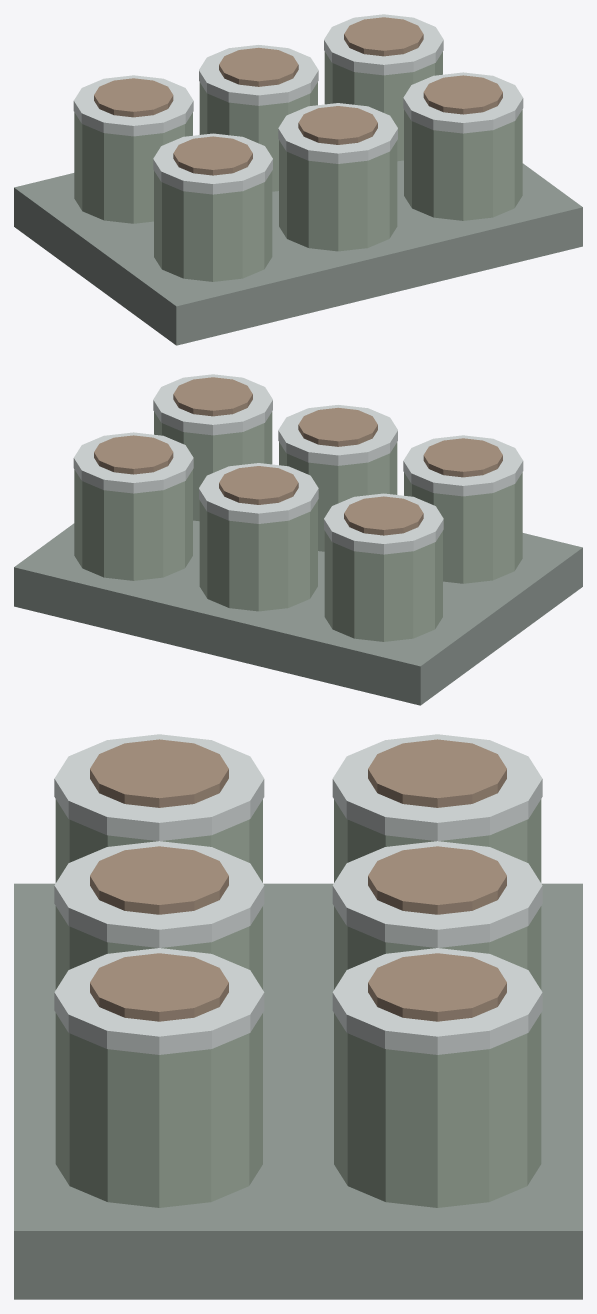
File: s7-e0e1-cn05-multipot-nursery-tray.glb
The picture shows the model from 3 angles, top to bottom: view 1: azimuth 30°, elevation 25°; view 2: azimuth 150°, elevation 25°; view 3: azimuth 270°, elevation 25°; orthographic projection. The views are drawn at different scales.
Visible parts, largest first — view 1: six-pot-carry-tray-000, nursery-individual-pot-010, nursery-individual-pot-016, nursery-individual-pot-004, nursery-individual-pot-001, nursery-individual-pot-007, nursery-individual-pot-013, pot-rim-017, pot-rim-002, pot-rim-005, pot-rim-014, pot-rim-008 (+7 smaller); view 2: six-pot-carry-tray-000, nursery-individual-pot-007, nursery-individual-pot-013, nursery-individual-pot-001, nursery-individual-pot-004, nursery-individual-pot-010, nursery-individual-pot-016, pot-rim-014, pot-rim-005, pot-rim-002, pot-rim-017, pot-rim-011 (+7 smaller); view 3: six-pot-carry-tray-000, nursery-individual-pot-013, nursery-individual-pot-016, pot-rim-008, pot-rim-011, pot-rim-014, pot-rim-017, pot-rim-002, pot-rim-005, pot-empty-soil-015, pot-empty-soil-018, pot-empty-soil-003 (+7 smaller).
Boxes of the visible parts, <box> form: six-pot-carry-tray-000: <box>14,160,582,345</box>; nursery-individual-pot-010: <box>279,140,397,251</box>; nursery-individual-pot-016: <box>404,109,522,220</box>; nursery-individual-pot-004: <box>154,171,272,281</box>; nursery-individual-pot-001: <box>74,112,192,223</box>; nursery-individual-pot-007: <box>199,82,317,191</box>; nursery-individual-pot-013: <box>324,52,442,161</box>; pot-rim-017: <box>403,72,523,133</box>; pot-rim-002: <box>73,75,193,136</box>; pot-rim-005: <box>153,133,272,194</box>; pot-rim-014: <box>324,14,443,75</box>; pot-rim-008: <box>199,45,318,105</box>; six-pot-carry-tray-000: <box>14,520,582,705</box>; nursery-individual-pot-007: <box>199,500,317,611</box>; nursery-individual-pot-013: <box>74,469,192,580</box>; nursery-individual-pot-001: <box>324,531,442,641</box>; nursery-individual-pot-004: <box>404,472,522,583</box>; nursery-individual-pot-010: <box>279,442,397,551</box>; nursery-individual-pot-016: <box>154,412,272,521</box>; pot-rim-014: <box>73,432,193,493</box>; pot-rim-005: <box>403,435,523,496</box>; pot-rim-002: <box>324,493,443,554</box>; pot-rim-017: <box>153,374,272,435</box>; pot-rim-011: <box>278,405,397,465</box>; six-pot-carry-tray-000: <box>14,883,582,1299</box>; nursery-individual-pot-013: <box>334,1013,541,1207</box>; nursery-individual-pot-016: <box>55,1013,262,1207</box>; pot-rim-008: <box>332,841,542,947</box>; pot-rim-011: <box>54,841,264,947</box>; pot-rim-014: <box>332,948,542,1054</box>; pot-rim-017: <box>54,948,264,1054</box>; pot-rim-002: <box>332,734,542,840</box>; pot-rim-005: <box>54,734,264,840</box>; pot-empty-soil-015: <box>368,953,506,1021</box>; pot-empty-soil-018: <box>90,953,228,1021</box>; pot-empty-soil-003: <box>368,739,506,807</box>.
Size of the model in its own units: 0.65 by 0.2185 by 0.45.
